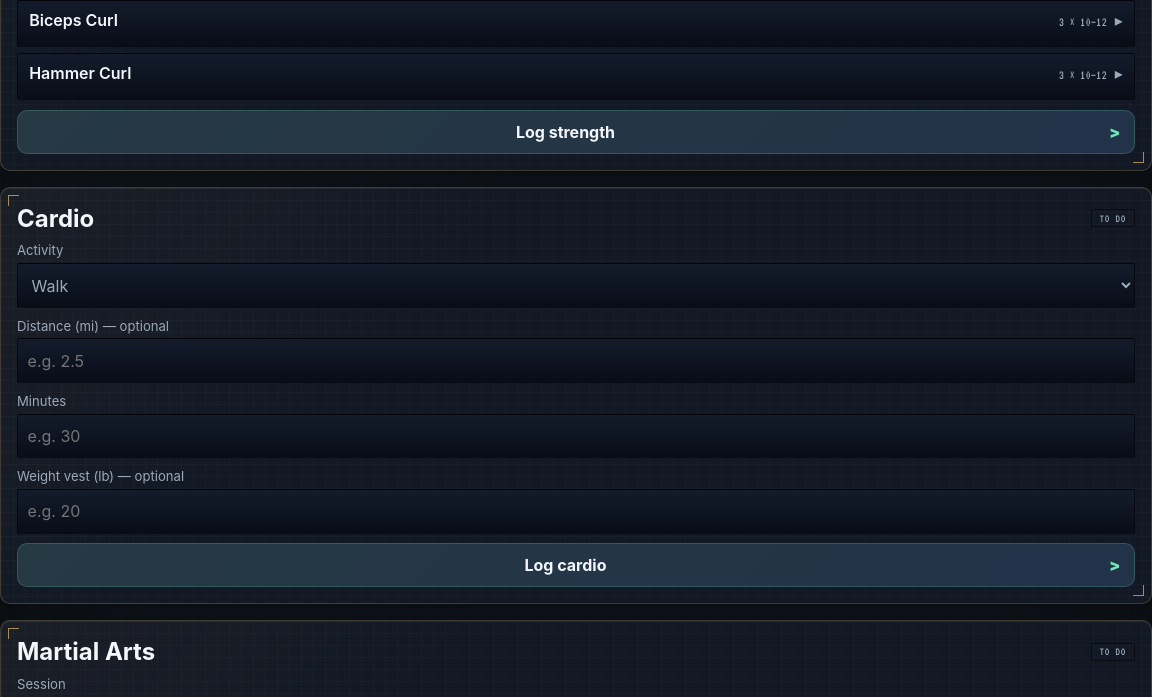
Test: DailyFitness › captures distance on a cardio log
(page scrolled)
Type "2.5" into the number field labelled "Distance (mi) — optional" at point(576, 361), box [17,338,1135,383]
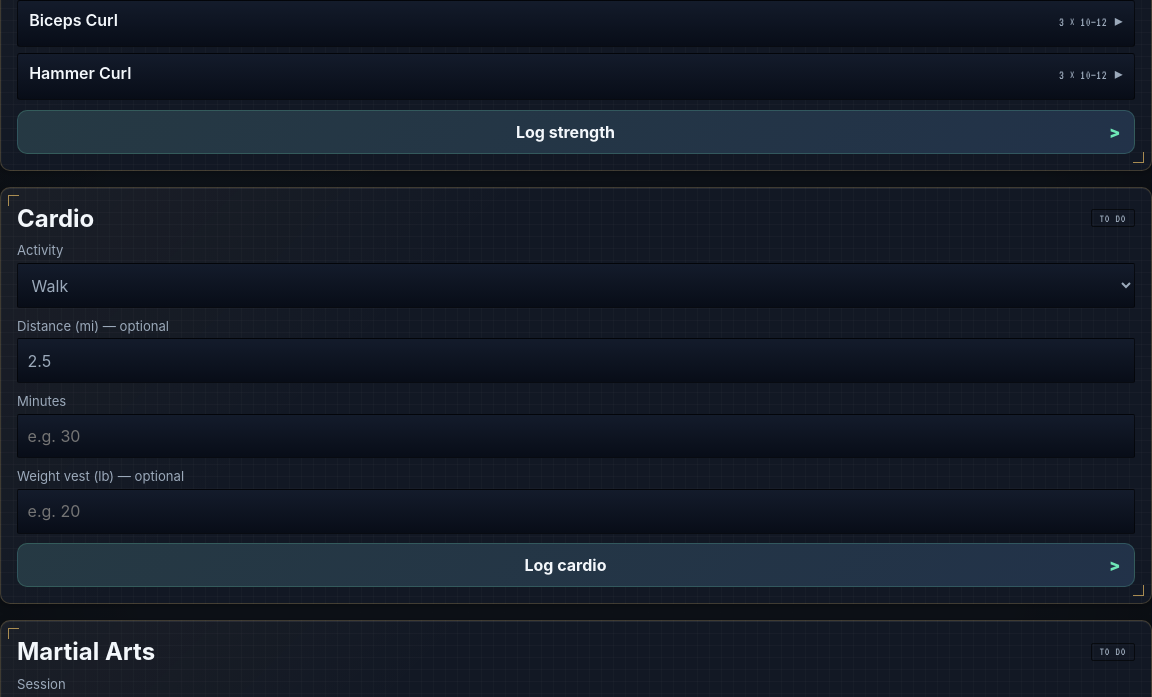
Click the button "Log cardio" at point(576, 565), box [17,543,1135,587]
(page scrolled)
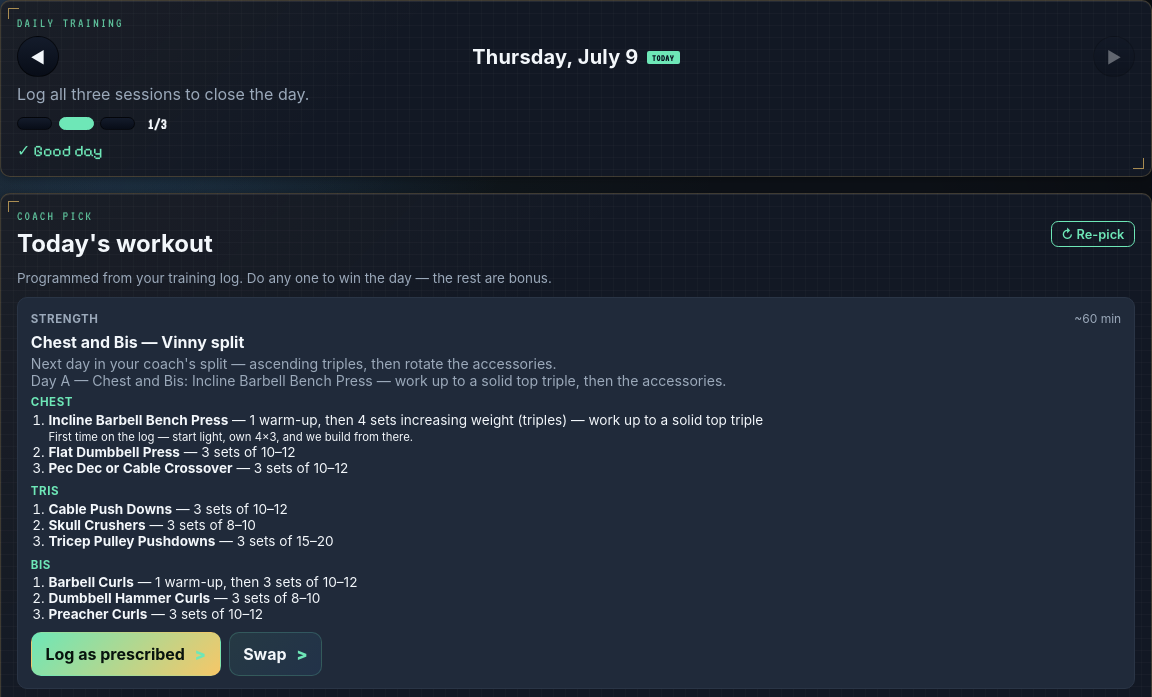
Expected: the text "1/3" is shown, [147,116,166,132]
